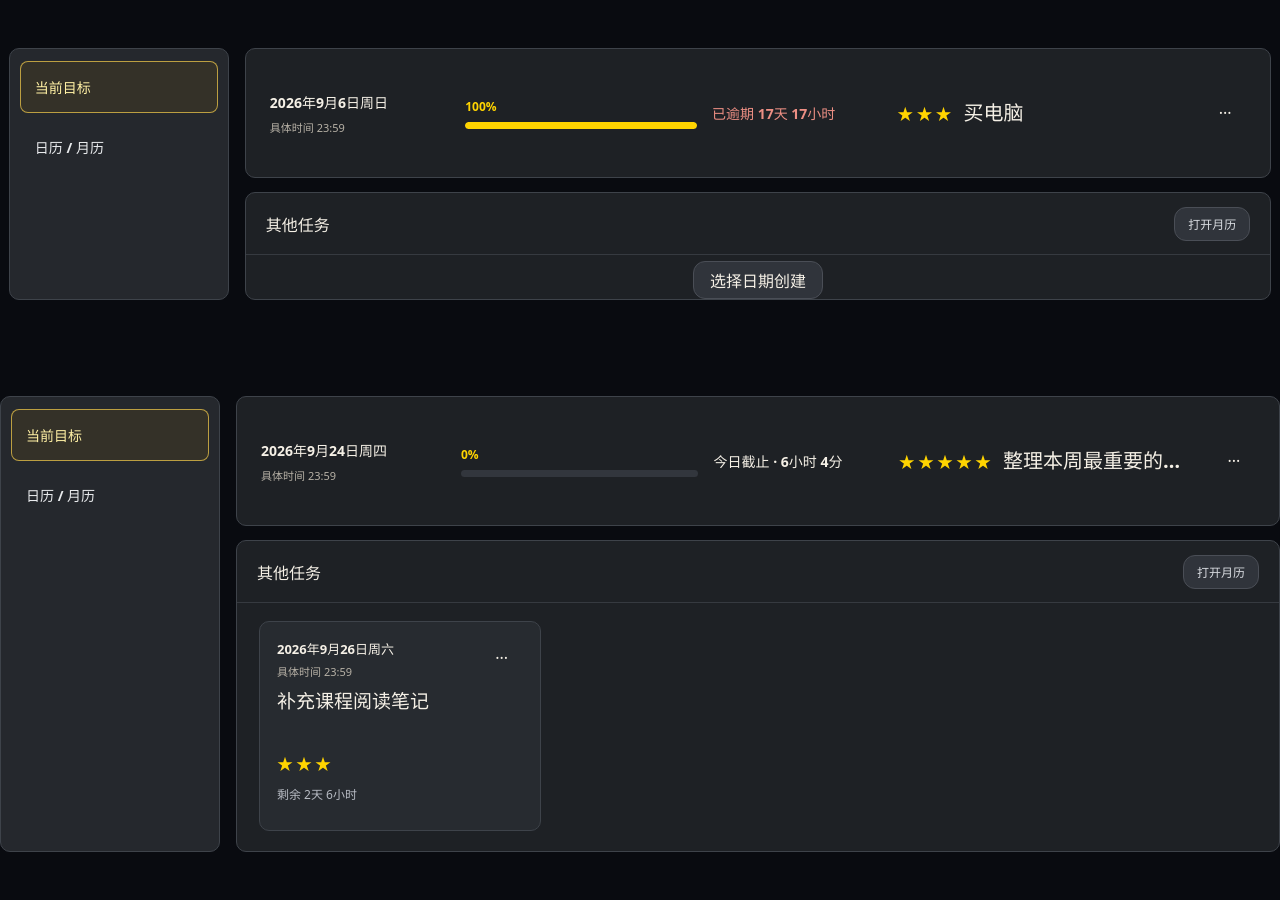
Test: TargetV1 › treats the associated folder as optional and hides the empty-folder action
Expected: the 1st element with class "target-v1__primary-strip" is shown, [270,92,1246,134]
Click the button with class "target-v1__section-button" in the row of "整理本周最重要的三个问题": {"x": 110, "y": 495} [11,469,209,521]
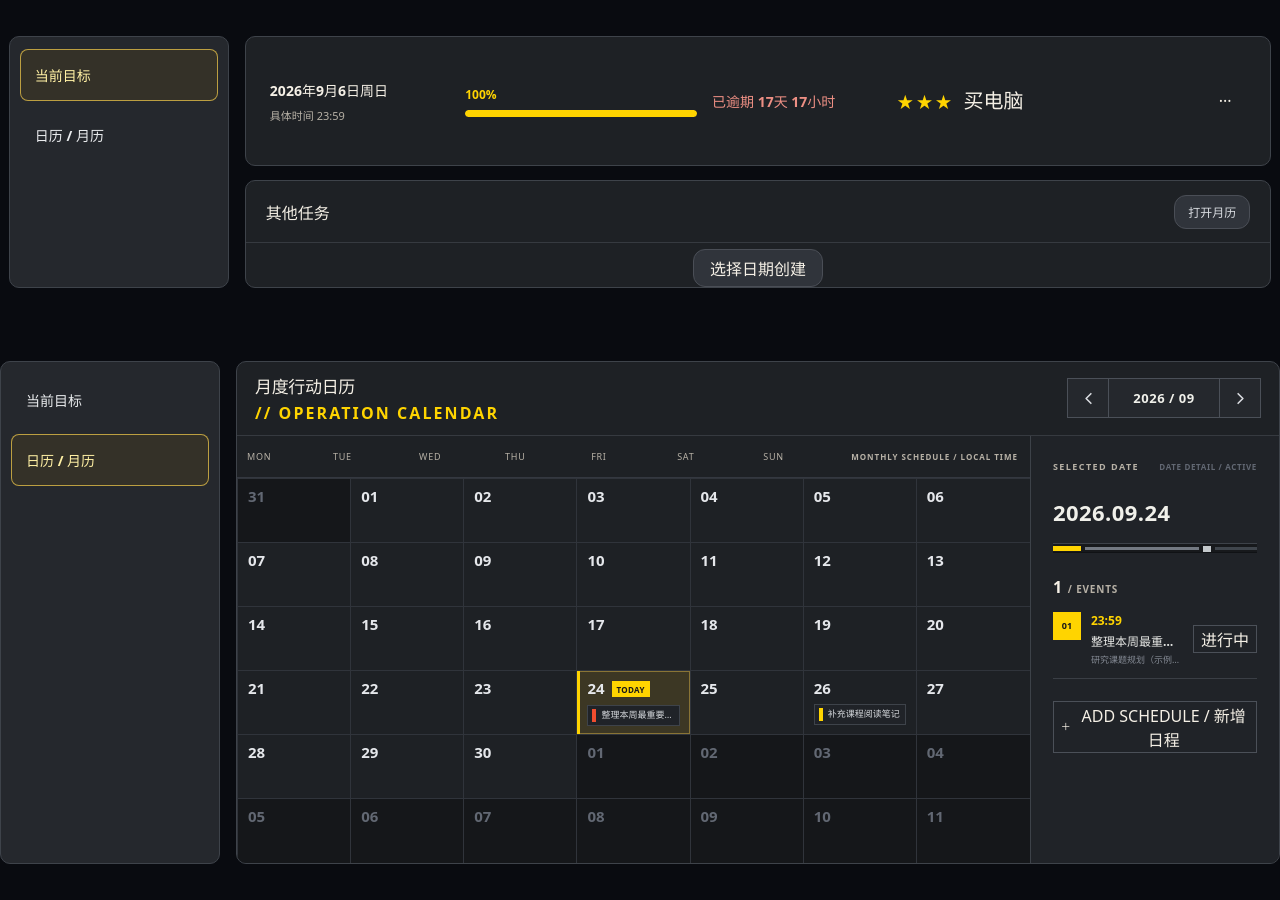
Now the element with class "target-v1__calendar-grid" is shown, box [237,478,1030,863]
Click the button "31": {"x": 295, "y": 511} [238,479,351,543]
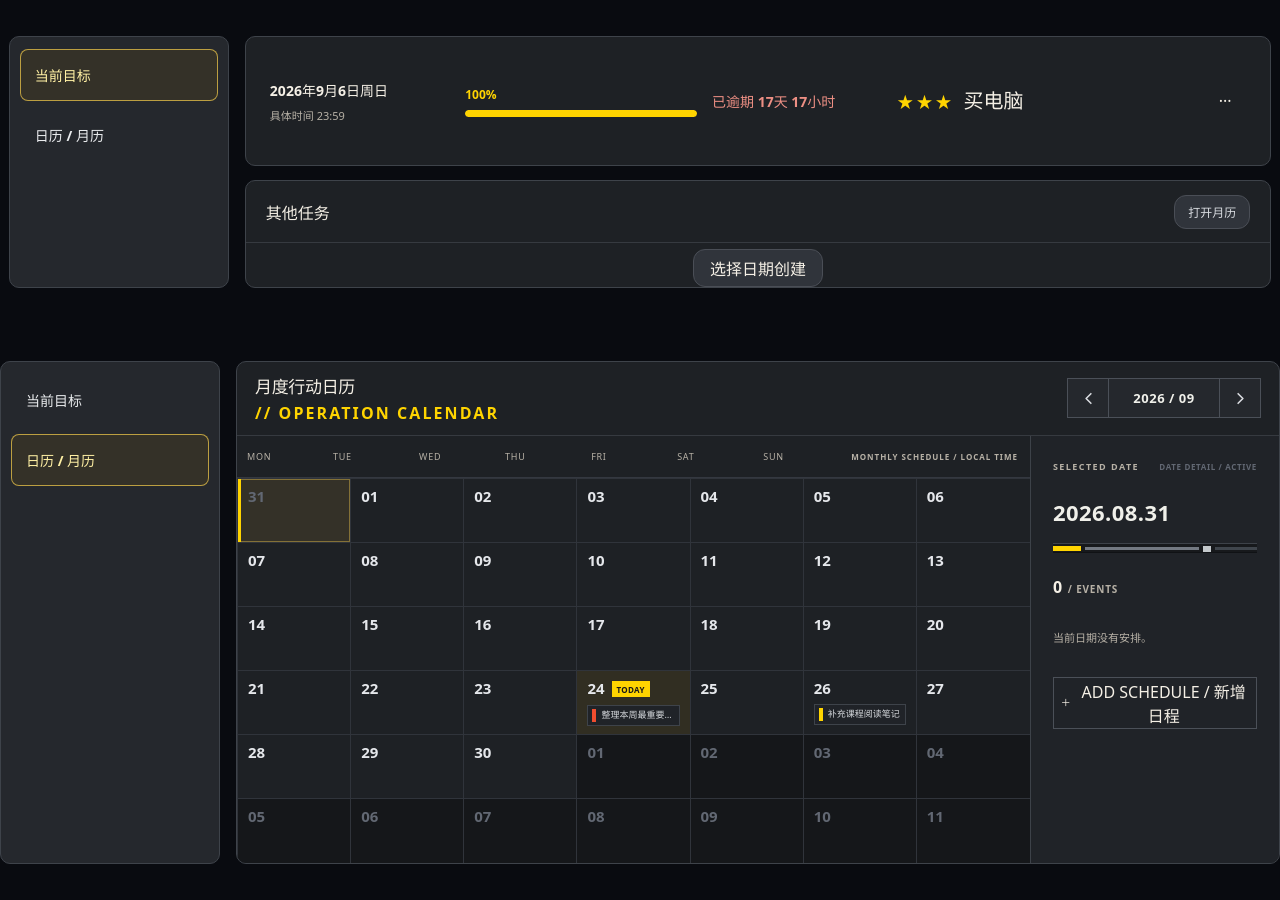
Click the button with class "target-v1__calendar-add": {"x": 1155, "y": 703} [1053,677,1257,729]
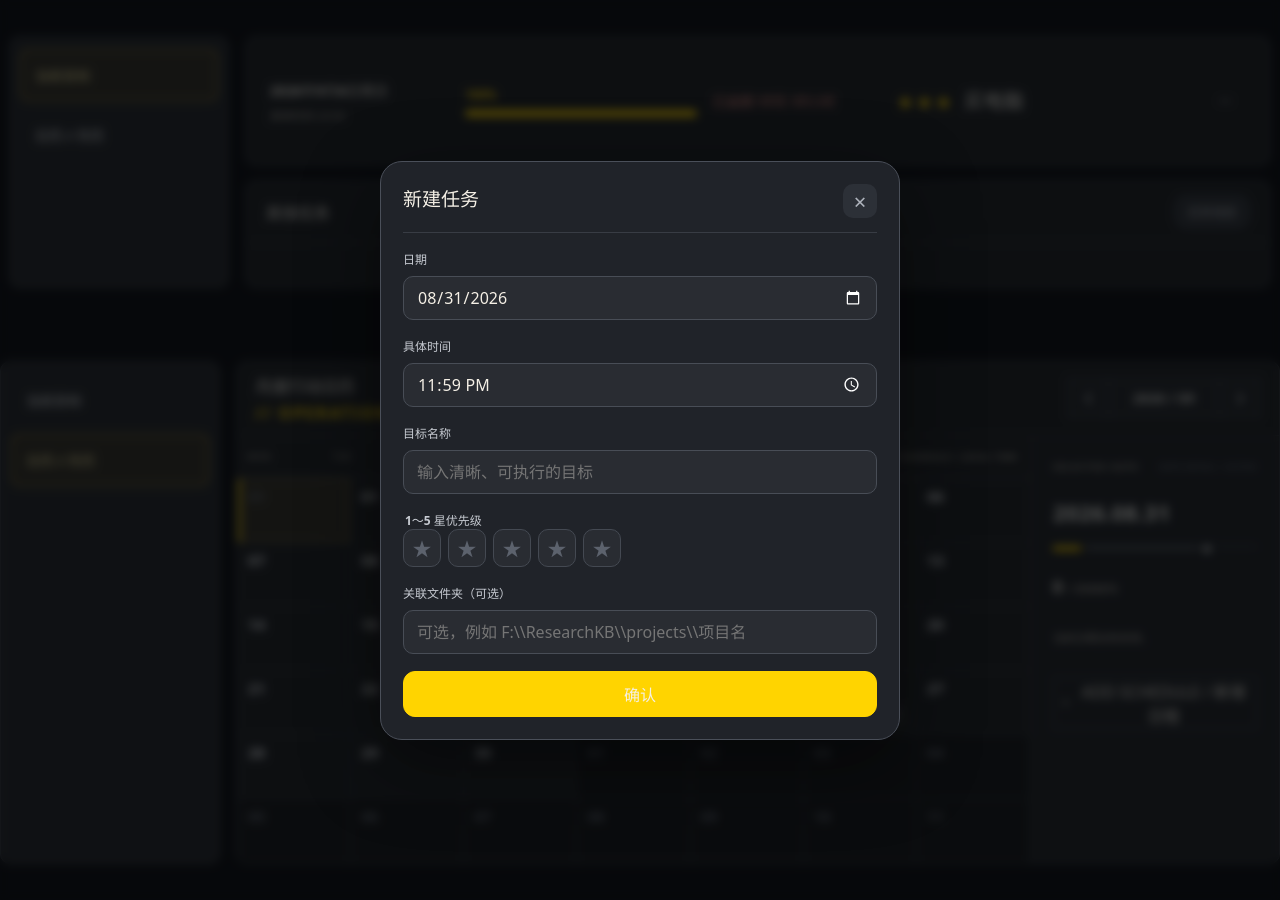
Now the field named "关联文件夹（可选）" is shown, box [403,610,877,654]
Now the time field named "具体时间" holds "23:59", box [403,362,877,406]
Now the text "关联文件夹（可选）" is shown, box [403,584,511,602]
